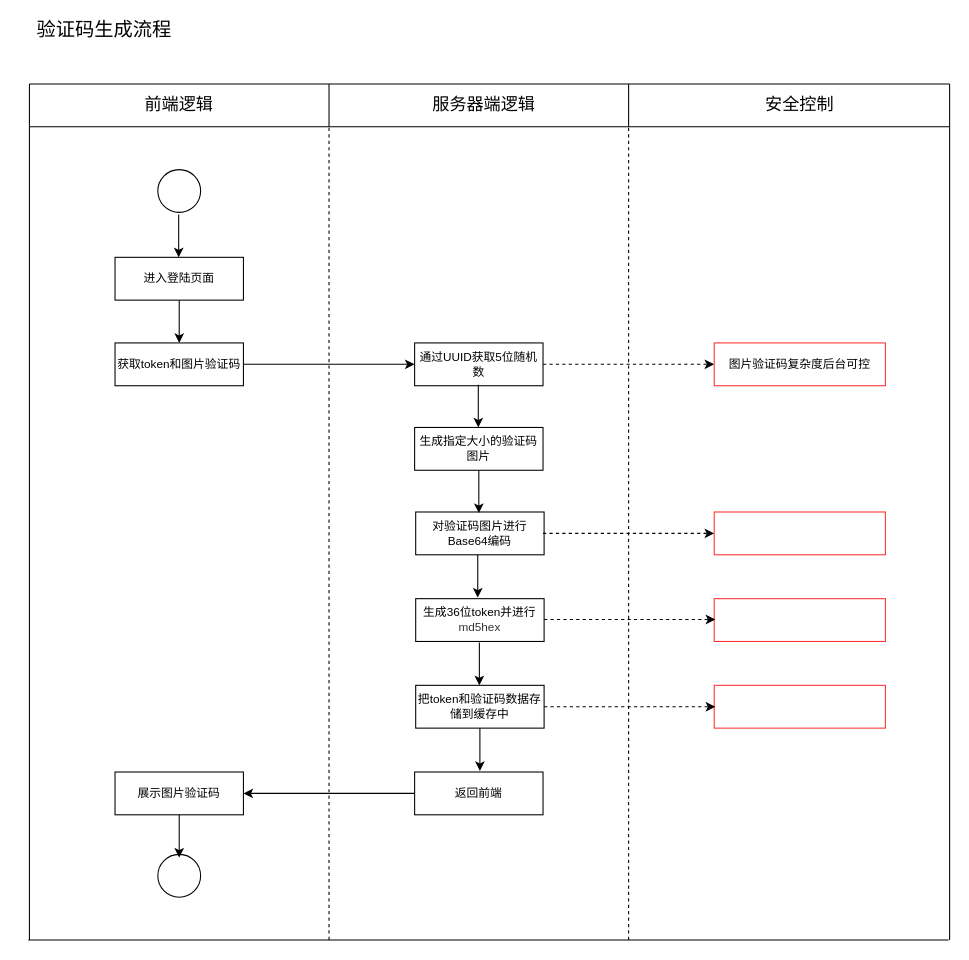
This 969x960 diagram has some shape labels left out. Here are the shapes that lost their labels. From the top down, the centre of each, then its label:
At pixel 179 190: "start".
At pixel 799 533: "Base64编码成二进制方便传输".
At pixel 799 619: "md5hex编码".
At pixel 799 706: "5分钟过期失效".
At pixel 179 875: "end".
